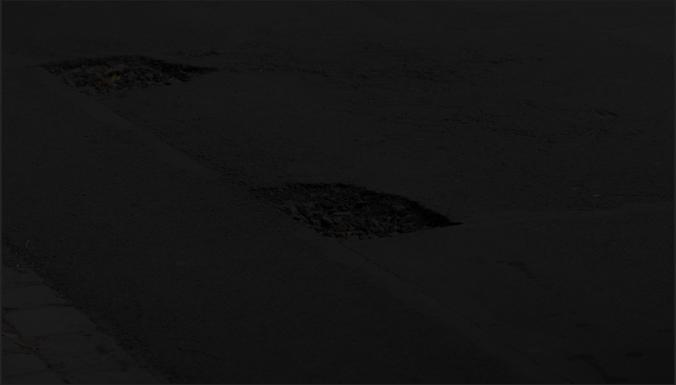pothole: (232, 154, 489, 258), (40, 45, 225, 105)
